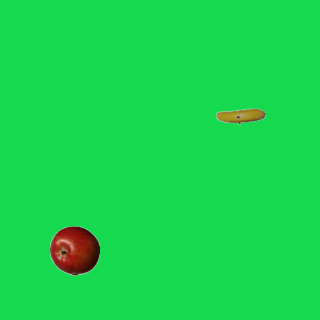Apple Braeburn: (49, 225, 99, 275)
Banana: (215, 91, 265, 141)
